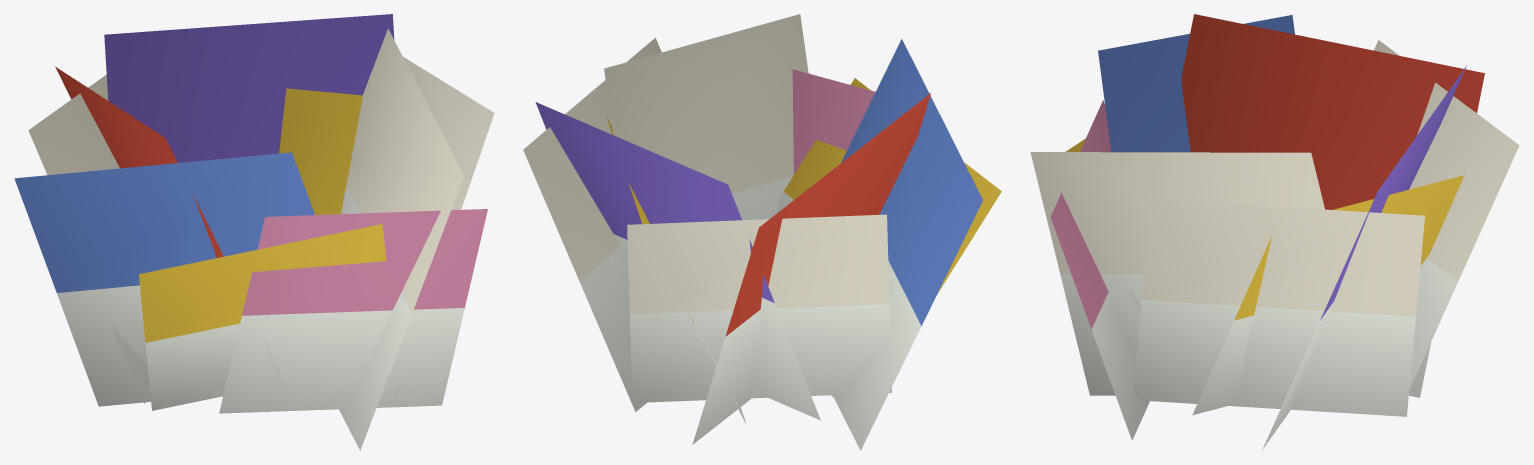
File: flowers_a.glb
The picture shows the model from 3 angles, left to right: view 1: azimuth 30°, elevation 25°; view 2: azimuth 150°, elevation 25°; view 3: azimuth 270°, elevation 25°; orthographic projection. The views are drawn at different scales.
Visible parts, largest first — view 1: flowers_a_LOD0; view 2: flowers_a_LOD0; view 3: flowers_a_LOD0.
Boxes of the visible parts, bbox=[...] form: flowers_a_LOD0: bbox=[14, 14, 494, 450]; flowers_a_LOD0: bbox=[523, 14, 1001, 450]; flowers_a_LOD0: bbox=[1030, 14, 1519, 449].
Size of the model in its own units: 0.8578 by 0.6274 by 0.858.
